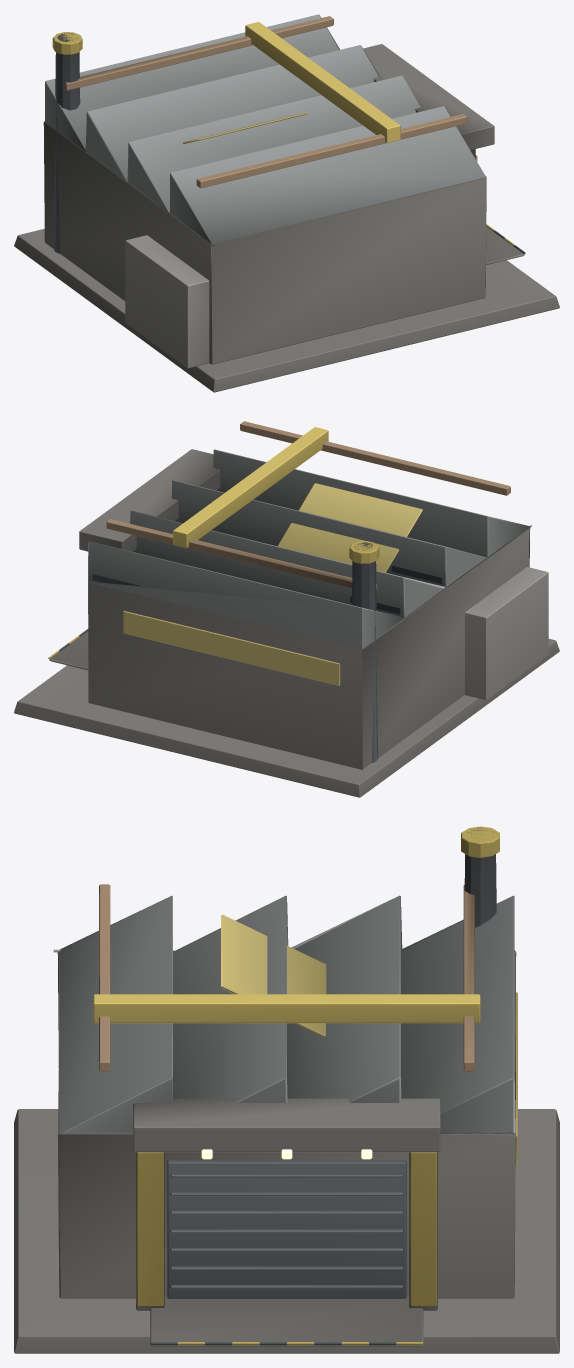
File: war_factory.glb
3 renders of one model, top to bottom at view 1: azimuth 30°, elevation 25°; view 2: azimuth 150°, elevation 25°; view 3: azimuth 270°, elevation 25°, orthographic. The views are drawn at different scales.
Visible parts, largest first — view 1: Body; view 2: Body; view 3: Body.
Boxes of the visible parts, x1,y1,x2,y2 form: Body: (14, 14, 559, 392); Body: (14, 421, 559, 797); Body: (14, 826, 559, 1353).
Size of the model in its own units: 10.23 by 5.92 by 9.59.
